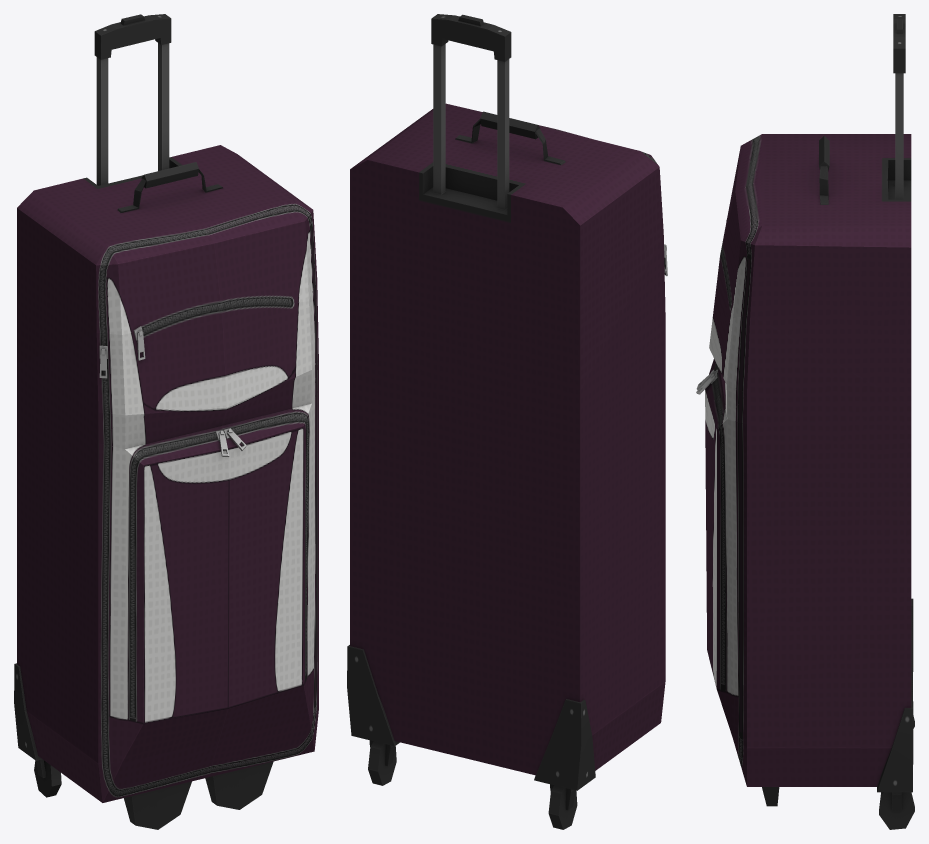
File: fabric-trolley-amber.glb
3 renders of one model, left to right at view 1: azimuth 30°, elevation 25°; view 2: azimuth 150°, elevation 25°; view 3: azimuth 270°, elevation 25°, orthographic. The views are drawn at different scales.
Parts seen in each view (by area): view 1: Luggage_mesh; view 2: Luggage_mesh; view 3: Luggage_mesh.
Part boxes in pixels (x1,y1,x2,y2): Luggage_mesh: (14, 14, 318, 829); Luggage_mesh: (347, 14, 667, 829); Luggage_mesh: (696, 14, 914, 829).
Bounding box in the file's own units: 2.46 × 7.9 × 2.06.
Materials: 1 (1 with a texture image).
